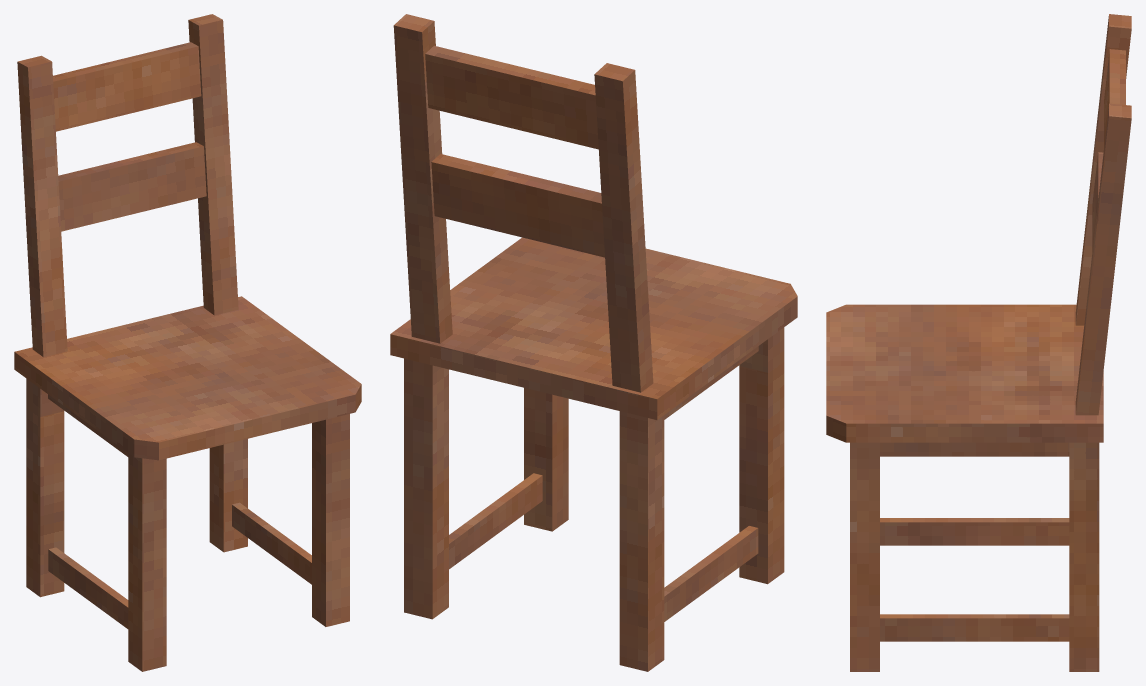
Rendered from Chair.fbx.
3 renders of one model, left to right at view 1: azimuth 30°, elevation 25°; view 2: azimuth 150°, elevation 25°; view 3: azimuth 270°, elevation 25°, orthographic. The views are drawn at different scales.
Parts seen in each view (by area): view 1: Chair; view 2: Chair; view 3: Chair.
Part boxes in pixels (bbox=[...]): Chair: bbox=[14, 14, 361, 671]; Chair: bbox=[390, 14, 797, 671]; Chair: bbox=[826, 14, 1131, 671].
Bounding box in the file's own units: 190 × 411 × 206.
1 material, 1 textured.
